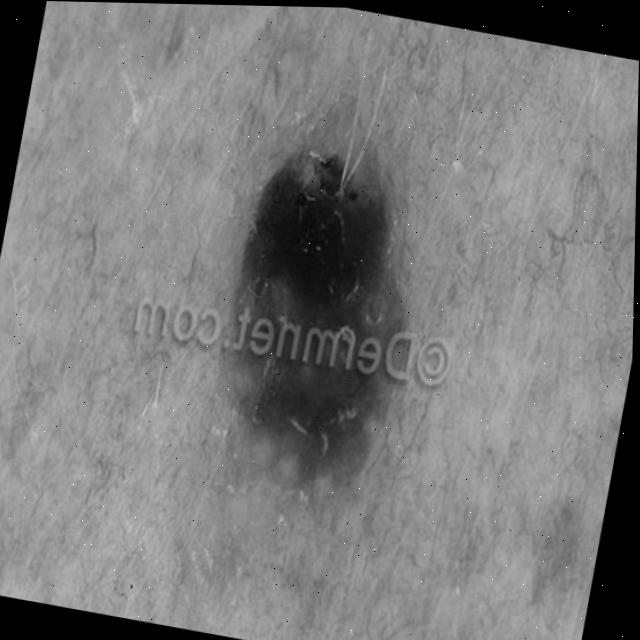Eczema: (228, 160, 404, 460)
